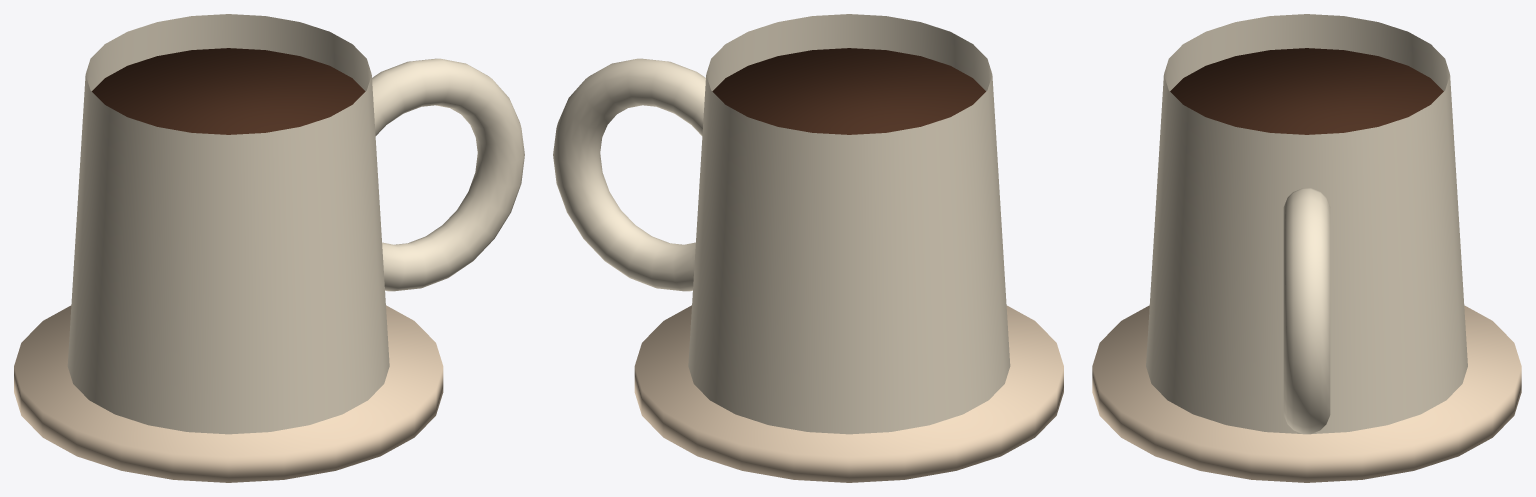
Rendered from mug.glb.
3 renders of one model, left to right at view 1: azimuth 30°, elevation 25°; view 2: azimuth 150°, elevation 25°; view 3: azimuth 270°, elevation 25°, orthographic.
Visible parts, largest first — view 1: cup, saucer, coffee, handle; view 2: cup, saucer, coffee, handle; view 3: cup, saucer, coffee, handle.
Part boxes in pixels (bbox=[...]): cup: bbox=[67, 14, 389, 434]; saucer: bbox=[14, 305, 443, 482]; coffee: bbox=[92, 48, 365, 134]; handle: bbox=[372, 58, 524, 291]; cup: bbox=[688, 14, 1010, 434]; saucer: bbox=[634, 305, 1063, 482]; coffee: bbox=[712, 48, 985, 134]; handle: bbox=[553, 58, 705, 291]; cup: bbox=[1146, 14, 1467, 433]; saucer: bbox=[1092, 305, 1521, 482]; coffee: bbox=[1170, 48, 1443, 134]; handle: bbox=[1283, 188, 1330, 434].
Bounding box in the file's own units: 0.1545 × 0.098 × 0.12.
